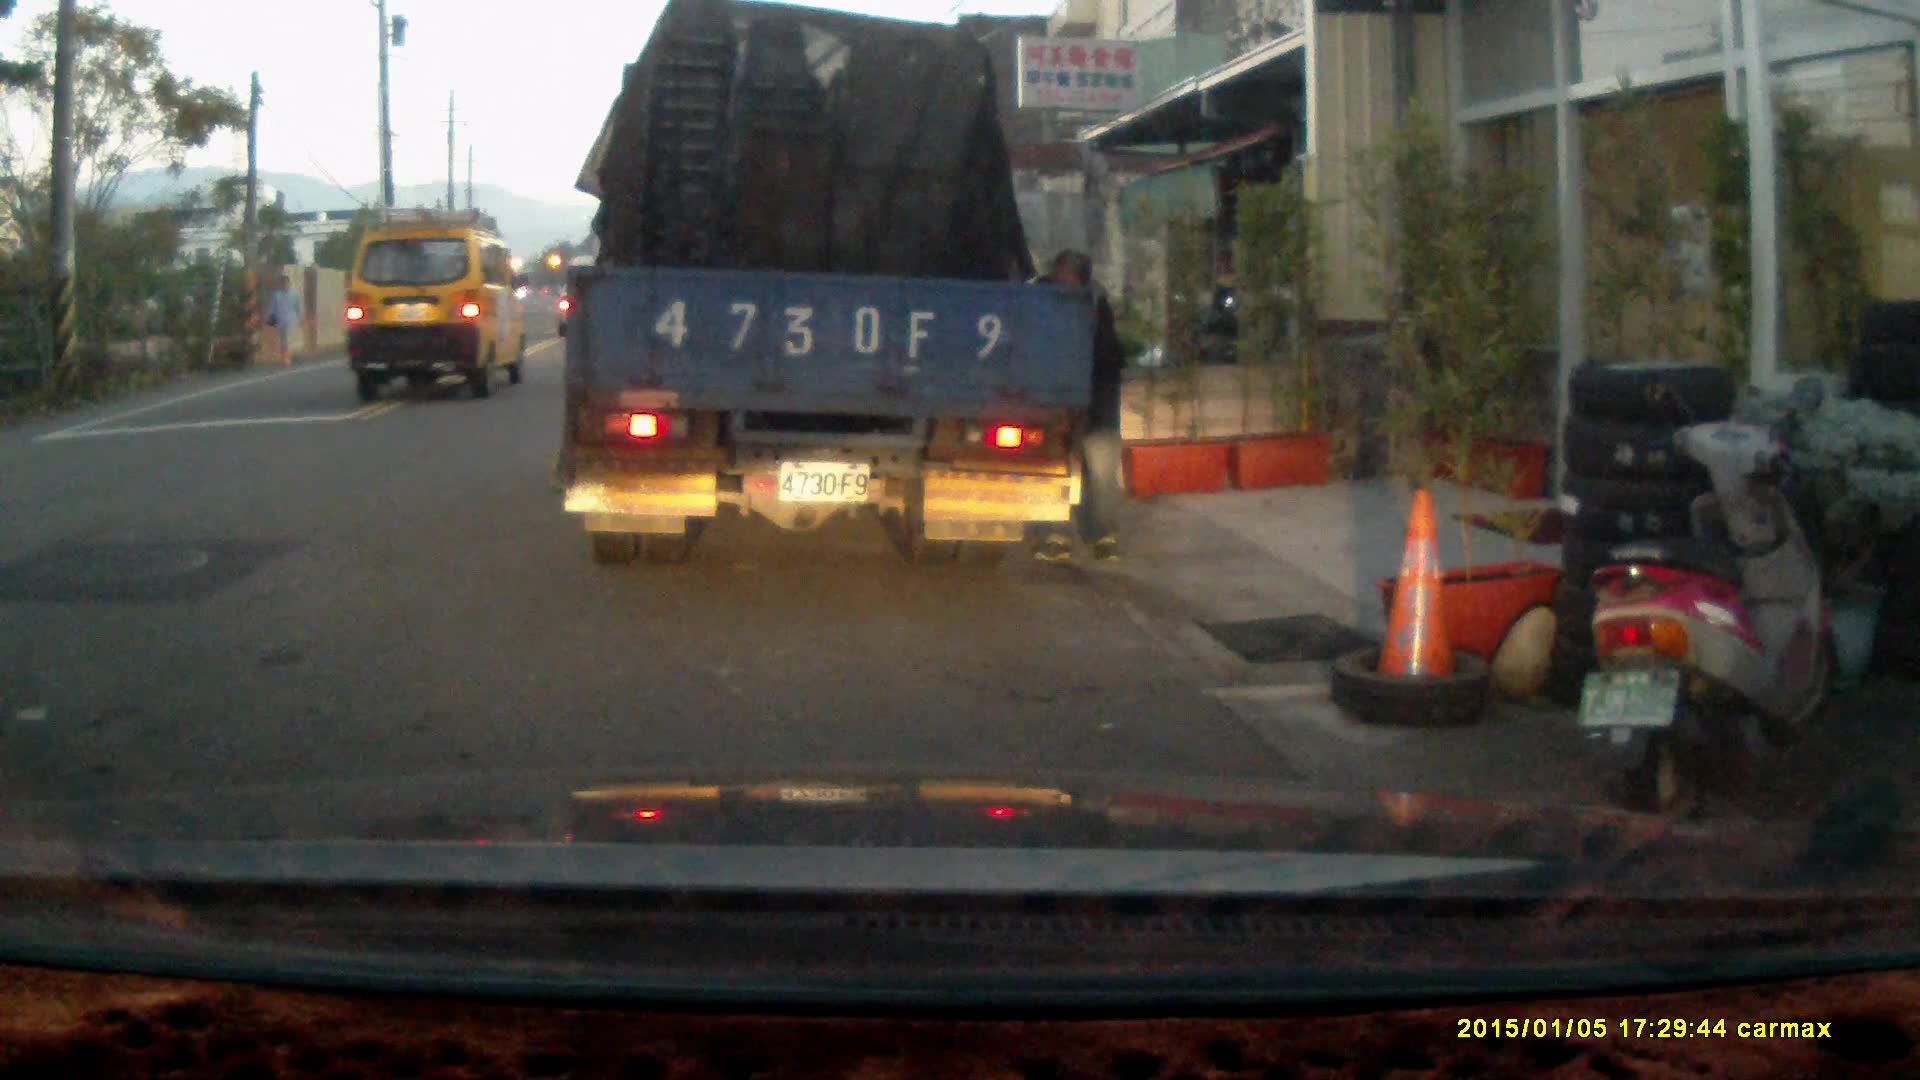pedestrian: (1019, 247, 1127, 568), (261, 276, 300, 368)
vehicle: (564, 23, 1092, 566), (344, 207, 534, 402)
